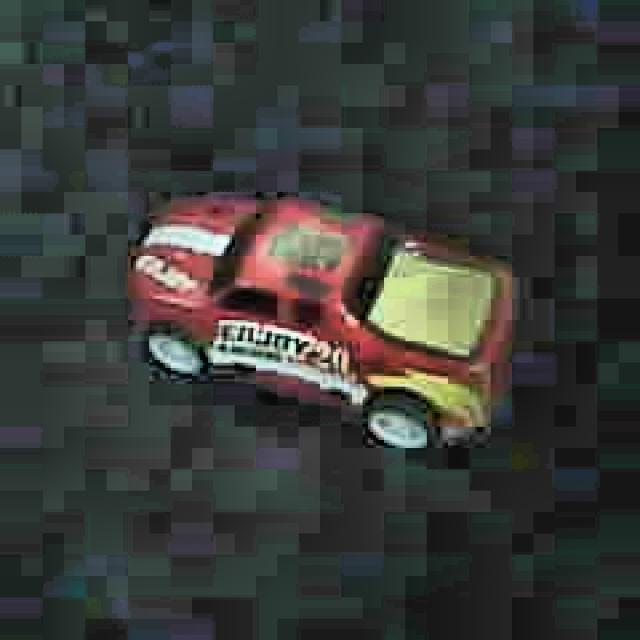car: (116, 185, 529, 470)
